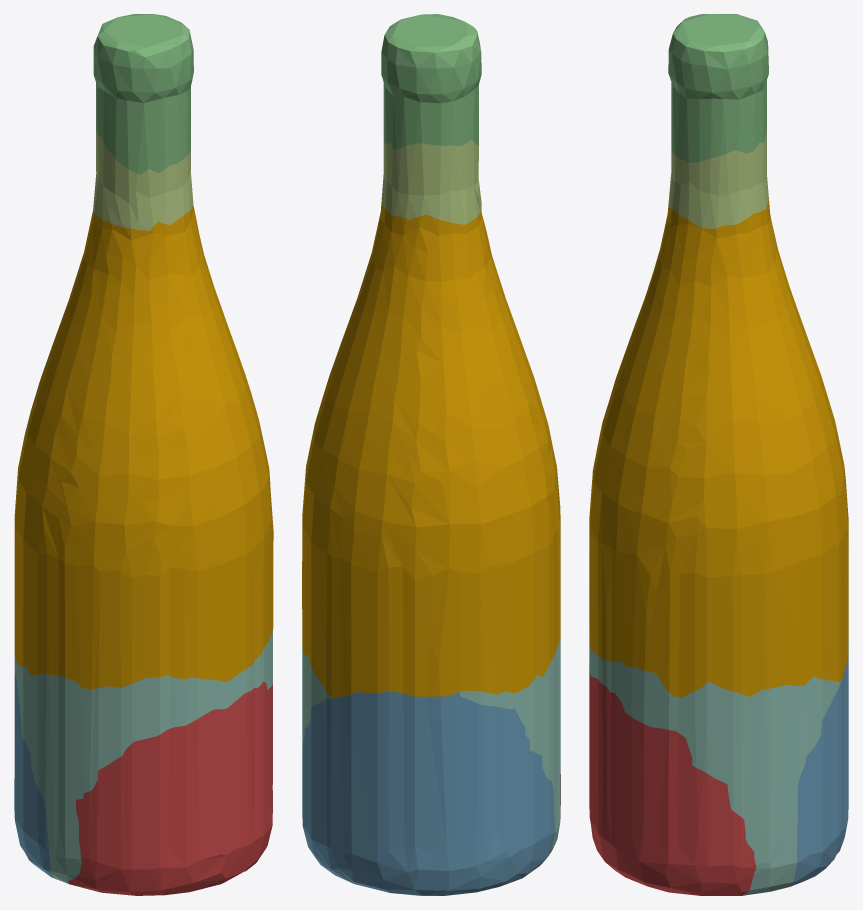
File: fractured_16_6pcs.glb
The picture shows the model from 3 angles, left to right: view 1: azimuth 30°, elevation 25°; view 2: azimuth 150°, elevation 25°; view 3: azimuth 270°, elevation 25°; orthographic projection.
Visible parts, largest first — view 1: piece_0.obj, piece_1.obj, piece_4.obj, piece_3.obj, piece_5.obj, piece_2.obj; view 2: piece_0.obj, piece_2.obj, piece_3.obj, piece_5.obj, piece_4.obj; view 3: piece_0.obj, piece_1.obj, piece_4.obj, piece_3.obj, piece_2.obj, piece_5.obj.
Part boxes in pixels (x1,y1,x2,y2): piece_0.obj: [14, 205, 273, 689]; piece_1.obj: [68, 681, 272, 895]; piece_4.obj: [14, 631, 272, 883]; piece_3.obj: [93, 14, 193, 174]; piece_5.obj: [93, 129, 193, 231]; piece_2.obj: [14, 672, 55, 878]; piece_0.obj: [302, 204, 560, 698]; piece_2.obj: [302, 691, 554, 895]; piece_3.obj: [381, 14, 481, 149]; piece_5.obj: [381, 136, 481, 224]; piece_4.obj: [302, 639, 560, 854]; piece_0.obj: [589, 200, 848, 697]; piece_1.obj: [589, 665, 756, 895]; piece_4.obj: [589, 627, 841, 895]; piece_3.obj: [668, 14, 768, 162]; piece_2.obj: [793, 641, 848, 884]; piece_5.obj: [668, 129, 768, 228].
Size of the model in its own units: 0.2867 by 1 by 0.2866.
